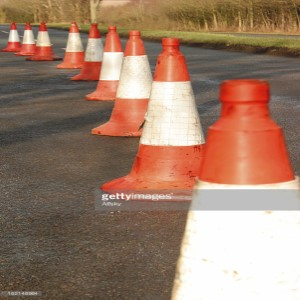traffic cone: (171, 79, 290, 300), (100, 37, 251, 197), (90, 30, 176, 138), (85, 27, 134, 101), (70, 23, 115, 81), (55, 21, 90, 69), (25, 23, 63, 62), (14, 23, 43, 55), (1, 22, 26, 51)
